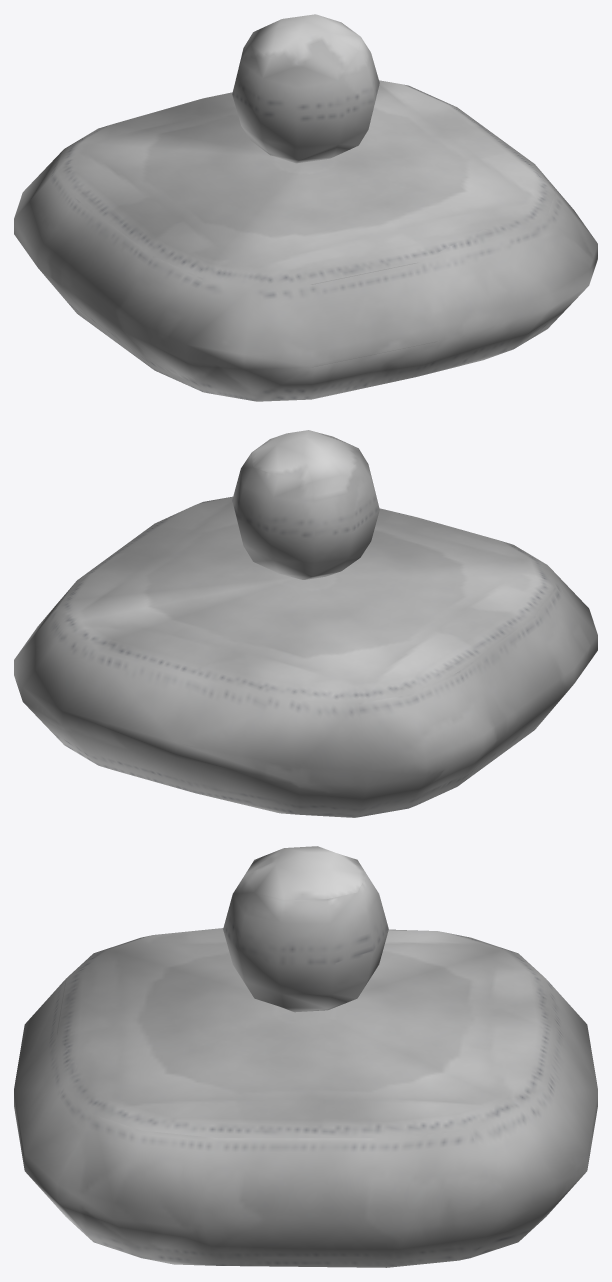
File: Head_C2.fbx
3 views of the same model, one above another, from view 1: azimuth 30°, elevation 25°; view 2: azimuth 150°, elevation 25°; view 3: azimuth 270°, elevation 25° (orthographic). The views are drawn at different scales.
Visible parts, largest first — view 1: Civ_GorroLana_Head_C2; view 2: Civ_GorroLana_Head_C2; view 3: Civ_GorroLana_Head_C2.
Part boxes in pixels (left/top/right/bottom): Civ_GorroLana_Head_C2: left=14, top=14, right=597, bottom=401; Civ_GorroLana_Head_C2: left=14, top=430, right=597, bottom=817; Civ_GorroLana_Head_C2: left=14, top=846, right=597, bottom=1267.
Bounding box in the file's own units: 1.47 × 0.9371 × 1.48.
